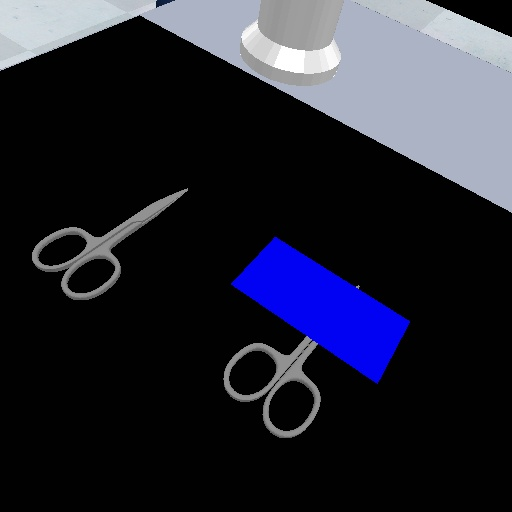tijera: (29, 180, 192, 303), (218, 334, 324, 442)
